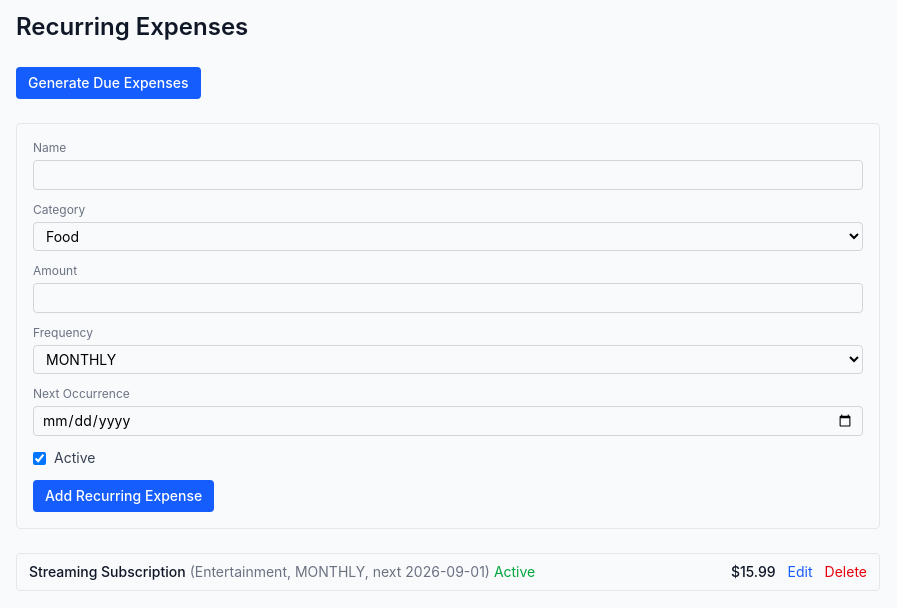
Test case: RecurringExpensesPage › deletes a recurring expense after confirmation and refetches the list
Expected: the text "Streaming Subscription" is shown, [29, 563, 186, 580]
Click the button "Delete" at [846, 572], box [825, 562, 867, 582]
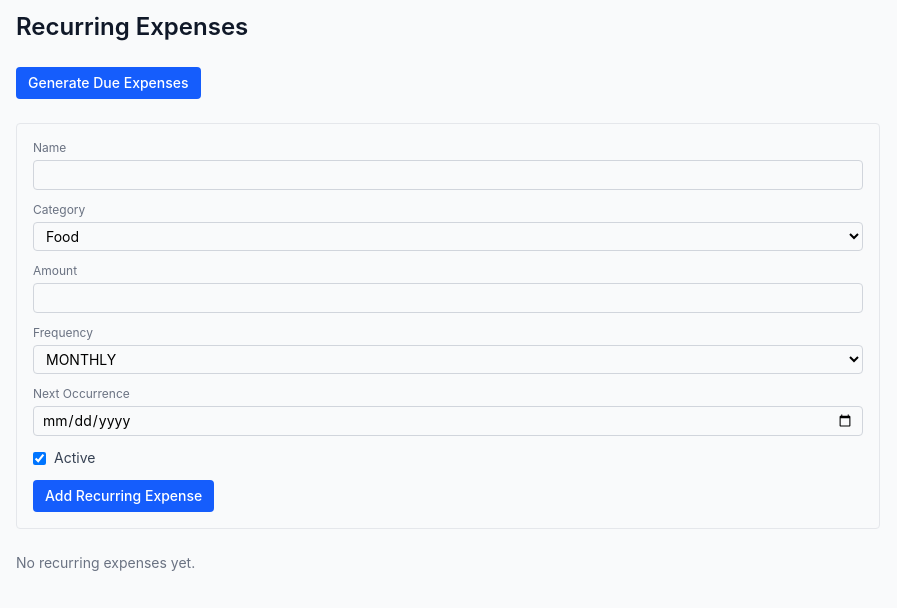
Expected: the text "No recurring expenses yet." is shown, [16, 554, 195, 571]
